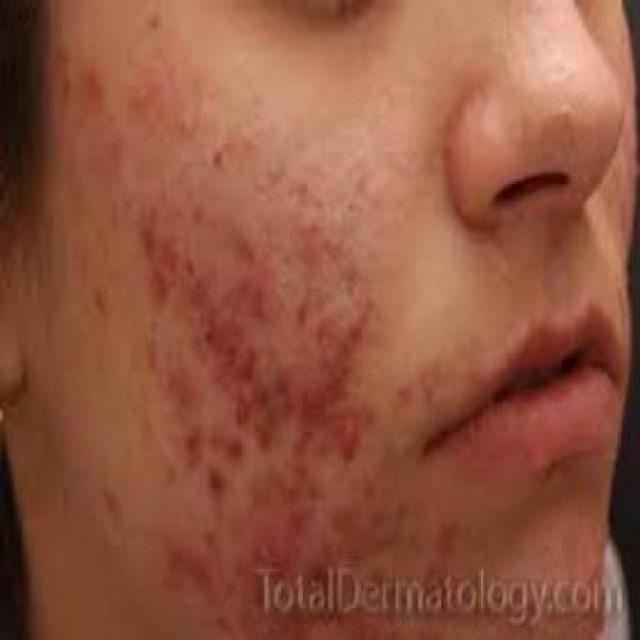dark spot: (97, 468, 131, 542)
papules: (75, 59, 117, 118)
